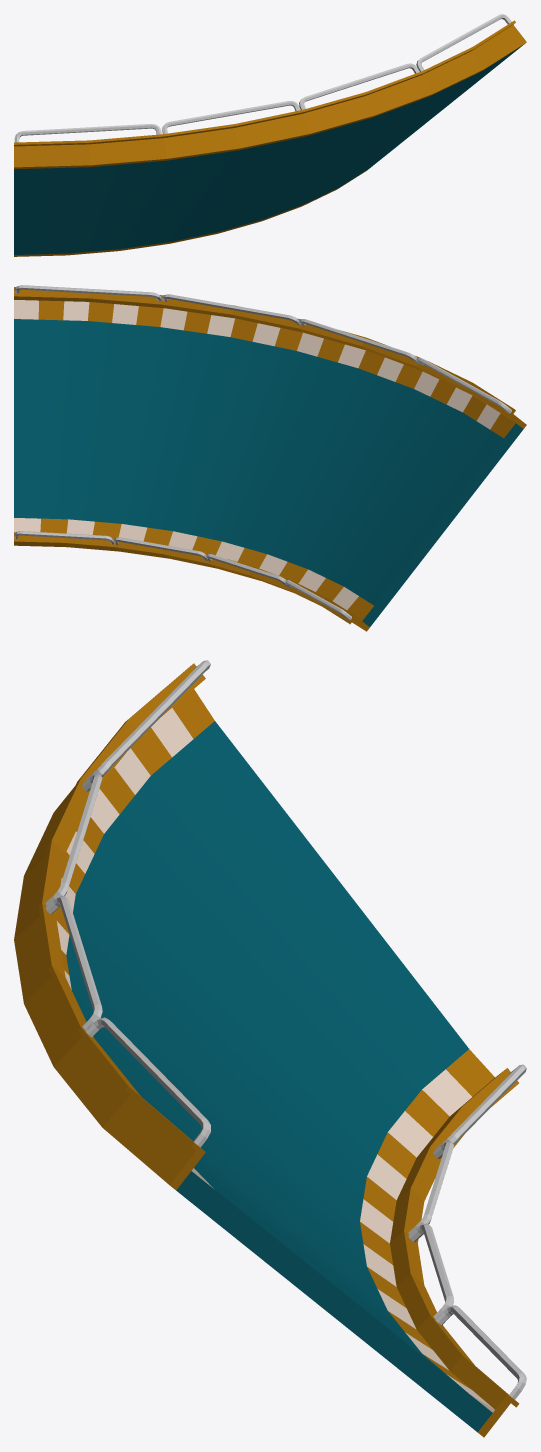
Rendered from bankedRight-60-45_m.FBX.
3 renders of one model, top to bottom at view 1: azimuth 30°, elevation 25°; view 2: azimuth 150°, elevation 25°; view 3: azimuth 270°, elevation 25°, orthographic. The views are drawn at different scales.
Visible parts, largest first — view 1: bankedRight-60-45_m, wall_l, wall_r; view 2: bankedRight-60-45_m, curbs_l, wall_l, curbs_r, wall_r; view 3: bankedRight-60-45_m, wall_l, wall_r, curbs_r, curbs_l.
Boxes of the visible parts, x1,y1,x2,y2 form: bankedRight-60-45_m: (14,45,522,254); wall_l: (14,14,526,169); wall_r: (14,169,368,256); bankedRight-60-45_m: (14,319,523,626); curbs_l: (14,300,515,438); wall_l: (14,285,526,428); curbs_r: (14,518,373,620); wall_r: (14,531,369,631); bankedRight-60-45_m: (66,721,492,1432); wall_l: (14,660,210,1190); wall_r: (390,1064,526,1437); curbs_r: (360,1049,494,1412); curbs_l: (56,689,214,1188).
Size of what is drawn, in the model's own units: 453 by 163 by 200.
